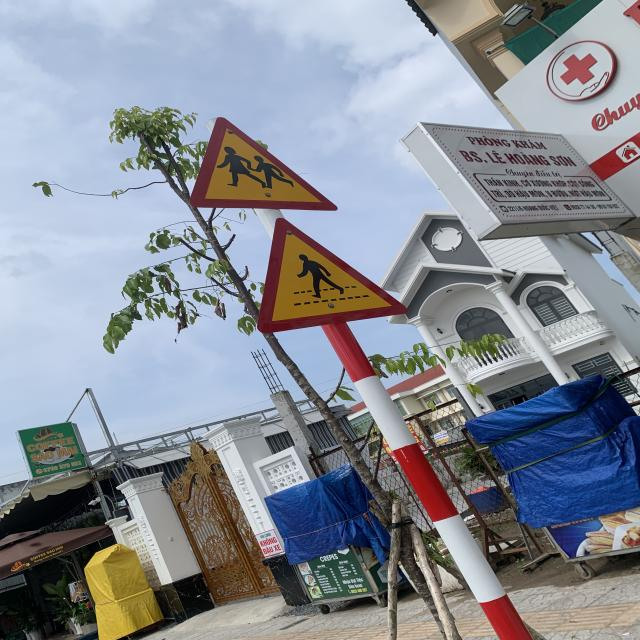Duong_Nguoi_Di_Bo_Sang_Ngang: (256, 218, 408, 334)
Vong_Xuyen: (191, 117, 336, 211)
